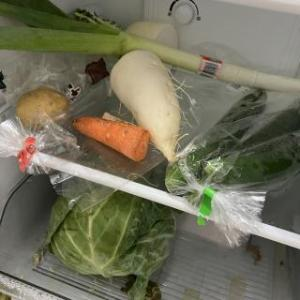cabbage: (40, 178, 176, 300)
carrot: (71, 115, 151, 163)
onion: (0, 0, 300, 94)
